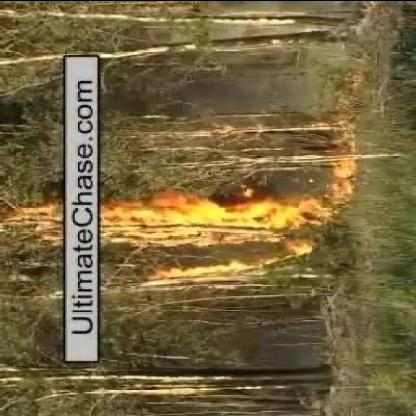foggia-v2-map80-epoch100 - v1 4323: (100, 201, 306, 235)
